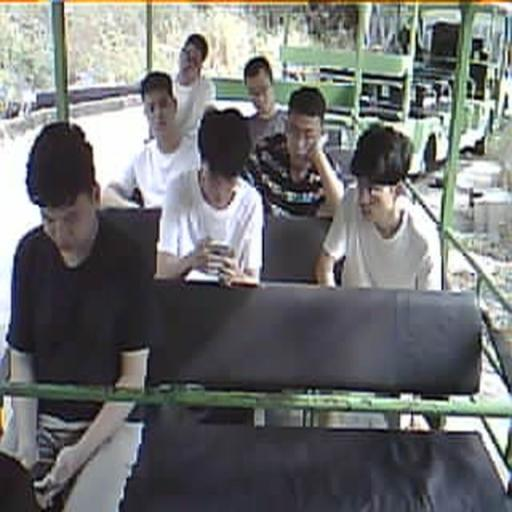persona: (4, 119, 158, 510), (314, 124, 448, 291), (156, 106, 264, 287), (242, 85, 346, 223), (101, 70, 201, 211), (170, 33, 217, 140), (240, 56, 290, 152)
